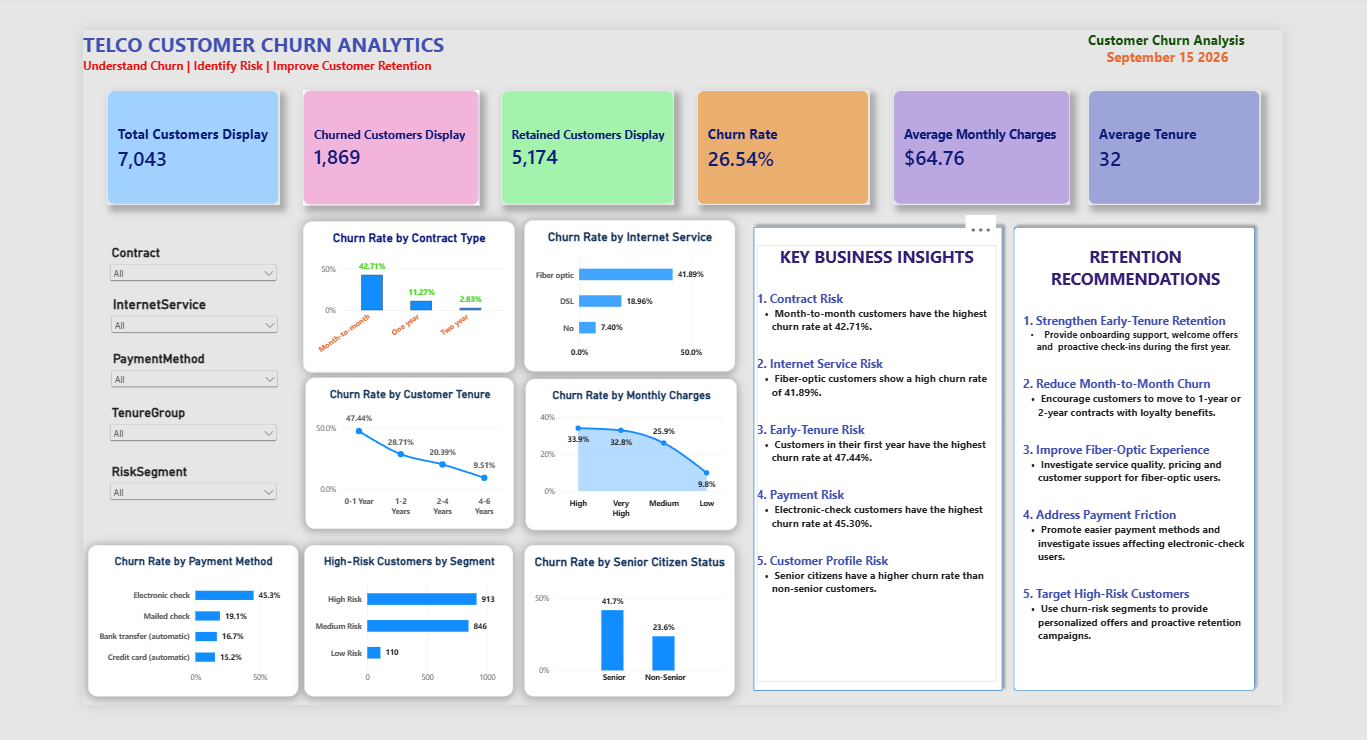

The dashboard page shown, as its layout file describes it:
{"tool":"powerbi","page":{"name":"Overview","canvas":[1920,1080],"ordinal":0},"visuals":[{"type":"textbox","box":[0,0,1523.7,56.1],"z":0},{"type":"textbox","box":[0,43.4,1413.3,34.4],"z":1000},{"type":"textbox","box":[1608.8,0,311.3,29],"z":2000},{"type":"textbox","box":[1638,28,252,50],"z":3000},{"type":"cardVisual","fields":{"Data":["Telco_Customer_Churn_Cleaned.Total Customers Display"]},"box":[38,95.9,276.9,184.6],"z":4000},{"type":"cardVisual","fields":{"Data":["Telco_Customer_Churn_Cleaned.Churned Customers Display"]},"box":[352.9,95.9,282.3,184.6],"z":5000},{"type":"cardVisual","fields":{"Data":["Telco_Customer_Churn_Cleaned.Retained Customers Display"]},"box":[667.8,95.9,278.7,184.6],"z":6000},{"type":"cardVisual","fields":{"Data":["Telco_Customer_Churn_Cleaned.Churn Rate"]},"box":[982.6,95.9,276.9,184.6],"z":7000},{"type":"cardVisual","fields":{"Data":["Telco_Customer_Churn_Cleaned.Average Monthly Charges"]},"box":[1295.7,95.9,284.1,184.6],"z":8000},{"type":"cardVisual","fields":{"Data":["Telco_Customer_Churn_Cleaned.Average Tenure"]},"box":[1608.8,95.9,276.9,184.6],"z":9000},{"type":"clusteredColumnChart","title":"Churn Rate by Contract Type","fields":{"Category":["Telco_Customer_Churn_Cleaned.Contract"],"Y":["Telco_Customer_Churn_Cleaned.Churn Rate"]},"box":[352,306,339,242.1],"z":10000},{"type":"clusteredBarChart","title":"Churn Rate by Internet Service","fields":{"Category":["Telco_Customer_Churn_Cleaned.InternetService"],"Y":["Telco_Customer_Churn_Cleaned.Churn Rate"]},"box":[706,304,337.3,242.1],"z":11000},{"type":"lineChart","title":"Churn Rate by Customer Tenure","fields":{"Category":["Telco_Customer_Churn_Cleaned.TenureGroup"],"Y":["Telco_Customer_Churn_Cleaned.Churn Rate"]},"box":[356,556,334,242.1],"z":12000},{"type":"areaChart","title":"Churn Rate by Monthly Charges","fields":{"Category":["Telco_Customer_Churn_Cleaned.MonthlyChargesGroup"],"Y":["Telco_Customer_Churn_Cleaned.Churn Rate"]},"box":[708,558,338.4,242.5],"z":13000},{"type":"clusteredBarChart","title":"Churn Rate by Payment Method","fields":{"Category":["Telco_Customer_Churn_Cleaned.PaymentMethod"],"Y":["Telco_Customer_Churn_Cleaned.Churn Rate"]},"box":[8,824,336.6,242.5],"z":14000},{"type":"barChart","title":"High-Risk Customers by Segment","fields":{"Category":["Telco_Customer_Churn_Cleaned.RiskSegment"],"Y":["Telco_Customer_Churn_Cleaned.Churned Customers"]},"box":[354,824,334.8,242.5],"z":15000},{"type":"clusteredColumnChart","title":"Churn Rate by Senior Citizen Status","fields":{"Y":["Telco_Customer_Churn_Cleaned.Churn Rate"],"Category":["Telco_Customer_Churn_Cleaned.Senior Citizen Status"]},"box":[706,824,336.6,242.5],"z":16000},{"type":"slicer","fields":{"Values":["Telco_Customer_Churn_Cleaned.Contract"]},"box":[38,344,276.9,65.1],"z":17000},{"type":"slicer","fields":{"Values":["Telco_Customer_Churn_Cleaned.InternetService"]},"box":[40,426,276.9,76],"z":18000},{"type":"slicer","fields":{"Values":["Telco_Customer_Churn_Cleaned.PaymentMethod"]},"box":[40,514,276.9,67],"z":19000},{"type":"slicer","fields":{"Values":["Telco_Customer_Churn_Cleaned.TenureGroup"]},"box":[38,600,276.9,68.8],"z":20000},{"type":"slicer","fields":{"Values":["Telco_Customer_Churn_Cleaned.RiskSegment"]},"box":[38,694,276.9,72.4],"z":21000},{"type":"textbox","box":[1579.8,702.1,168.3,378.2],"z":21001},{"type":"shape","box":[1064,306,416,760],"z":21002},{"type":"textbox","box":[40,892,337,174],"z":21003},{"type":"textbox","box":[1078,344,384,698],"z":21004},{"type":"shape","box":[1480,306,404,760],"z":21005},{"type":"textbox","box":[1504,344,360,722],"z":21006}]}

Visuals, with their boxes on the page's 1920x1080 design canvas (x1, y1, x2, y2). These are canvas units, not pixel positions in the 1367x740 screenshot, which may show the page scaled, cropped or inside an application window:
textbox: [x1=0, y1=0, x2=1524, y2=56]
textbox: [x1=0, y1=43, x2=1413, y2=78]
textbox: [x1=1609, y1=0, x2=1920, y2=29]
textbox: [x1=1638, y1=28, x2=1890, y2=78]
cardVisual - Telco_Customer_Churn_Cleaned.Total Customers Display: [x1=38, y1=96, x2=315, y2=280]
cardVisual - Telco_Customer_Churn_Cleaned.Churned Customers Display: [x1=353, y1=96, x2=635, y2=280]
cardVisual - Telco_Customer_Churn_Cleaned.Retained Customers Display: [x1=668, y1=96, x2=946, y2=280]
cardVisual - Telco_Customer_Churn_Cleaned.Churn Rate: [x1=983, y1=96, x2=1260, y2=280]
cardVisual - Telco_Customer_Churn_Cleaned.Average Monthly Charges: [x1=1296, y1=96, x2=1580, y2=280]
cardVisual - Telco_Customer_Churn_Cleaned.Average Tenure: [x1=1609, y1=96, x2=1886, y2=280]
"Churn Rate by Contract Type" clusteredColumnChart: [x1=352, y1=306, x2=691, y2=548]
"Churn Rate by Internet Service" clusteredBarChart: [x1=706, y1=304, x2=1043, y2=546]
"Churn Rate by Customer Tenure" lineChart: [x1=356, y1=556, x2=690, y2=798]
"Churn Rate by Monthly Charges" areaChart: [x1=708, y1=558, x2=1046, y2=800]
"Churn Rate by Payment Method" clusteredBarChart: [x1=8, y1=824, x2=345, y2=1066]
"High-Risk Customers by Segment" barChart: [x1=354, y1=824, x2=689, y2=1066]
"Churn Rate by Senior Citizen Status" clusteredColumnChart: [x1=706, y1=824, x2=1043, y2=1066]
slicer - Telco_Customer_Churn_Cleaned.Contract: [x1=38, y1=344, x2=315, y2=409]
slicer - Telco_Customer_Churn_Cleaned.InternetService: [x1=40, y1=426, x2=317, y2=502]
slicer - Telco_Customer_Churn_Cleaned.PaymentMethod: [x1=40, y1=514, x2=317, y2=581]
slicer - Telco_Customer_Churn_Cleaned.TenureGroup: [x1=38, y1=600, x2=315, y2=669]
slicer - Telco_Customer_Churn_Cleaned.RiskSegment: [x1=38, y1=694, x2=315, y2=766]
textbox: [x1=1580, y1=702, x2=1748, y2=1080]
shape: [x1=1064, y1=306, x2=1480, y2=1066]
textbox: [x1=40, y1=892, x2=377, y2=1066]
textbox: [x1=1078, y1=344, x2=1462, y2=1042]
shape: [x1=1480, y1=306, x2=1884, y2=1066]
textbox: [x1=1504, y1=344, x2=1864, y2=1066]
